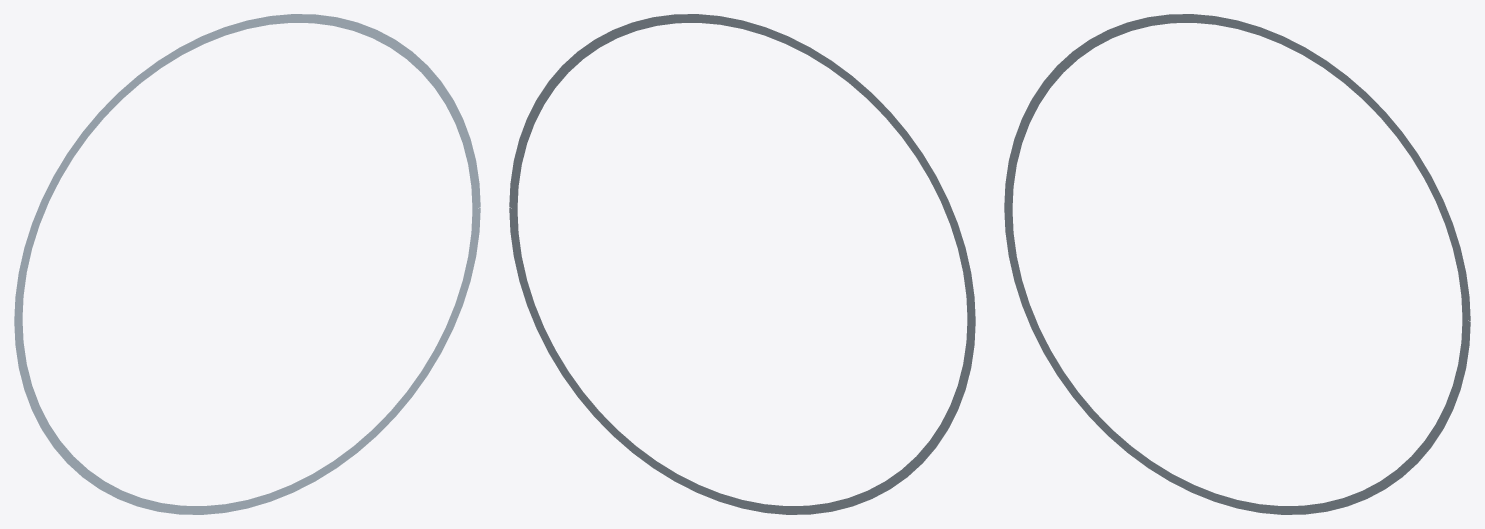
The model's file is AbyssMageRite_Hydro_RiteBoundary.fbx.
3 views of the same model, side by side, from view 1: azimuth 30°, elevation 25°; view 2: azimuth 150°, elevation 25°; view 3: azimuth 330°, elevation 25° (orthographic).
Parts seen in each view (by area): view 1: PART_RiteThinBoundary; view 2: PART_RiteThinBoundary; view 3: PART_RiteThinBoundary.
Boxes of the visible parts, left/top/right/bottom form: PART_RiteThinBoundary: left=14, top=14, right=480, bottom=514; PART_RiteThinBoundary: left=509, top=14, right=975, bottom=514; PART_RiteThinBoundary: left=1004, top=14, right=1470, bottom=514.
Bounding box in the file's own units: 204 × 204 × 3.32e-05.
